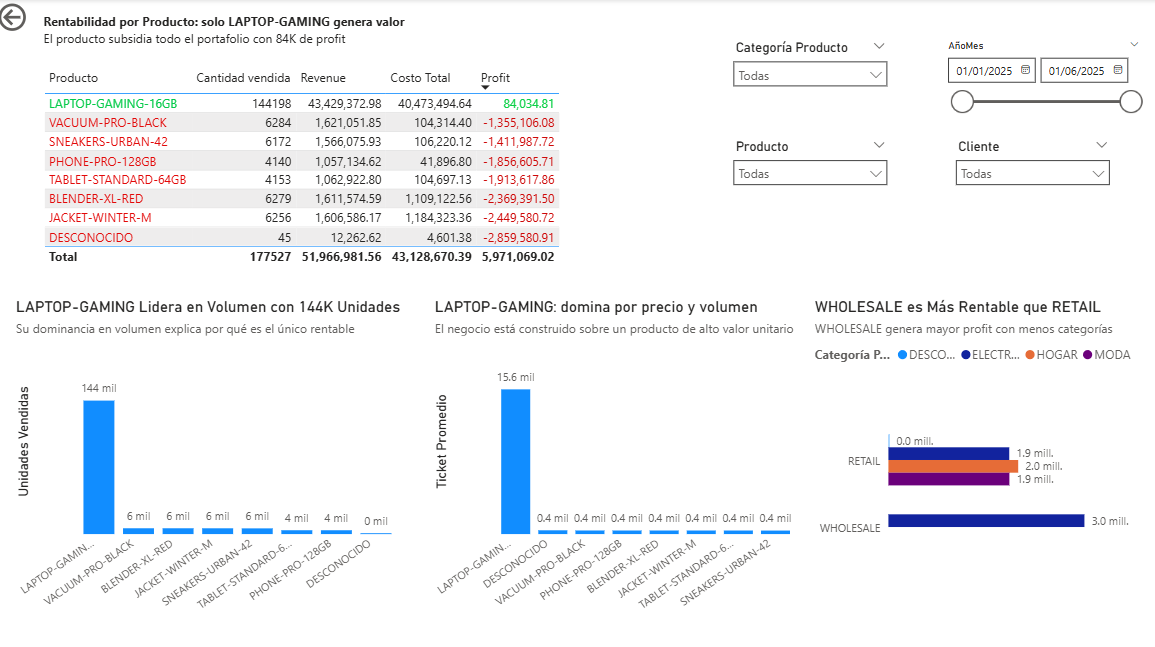

Layout of this report page (visuals, bound fields, positions):
{"tool":"powerbi","page":{"name":"Detalle","canvas":[1280,720],"ordinal":1},"visuals":[{"type":"tableEx","fields":{"Values":["orders_work.nombre_producto","Sum(orders_work.cantidad)","Sum(orders_work.monto_total)","Sum(orders_work.Costo Total)","orders_work.Profit Total"]},"box":[49.4,70,693,241.5],"z":0},{"type":"columnChart","title":"LAPTOP-GAMING Lidera en Volumen con 144K Unidades","fields":{"Y":["Sum(orders_work.cantidad)"],"Category":["orders_work.nombre_producto"]},"box":[19.2,328,440.5,354],"z":1},{"type":"actionButton","box":[0,0,100,40],"z":2},{"type":"slicer","fields":{"Values":["dim_fecha.AñoMes"]},"box":[1034.7,39.8,234.6,93.3],"z":3},{"type":"slicer","fields":{"Values":["catalog_work.categoria_producto"]},"box":[801.4,39.8,189.4,74.1],"z":4},{"type":"slicer","fields":{"Values":["orders_work.nombre_producto"]},"box":[801.4,148.2,189.4,68.6],"z":5},{"type":"slicer","fields":{"Values":["orders_work.customer_type"]},"box":[1045.6,148.2,189.4,68.6],"z":6},{"type":"clusteredBarChart","title":"WHOLESALE es Más Rentable que RETAIL","fields":{"Category":["orders_work.customer_type"],"Y":["Sum(orders_work.Profit)"],"Series":["orders_work.categoria_producto"]},"box":[896.1,328,373.2,354],"z":7},{"type":"clusteredColumnChart","title":"LAPTOP-GAMING: domina por precio y volumen","fields":{"Category":["orders_work.nombre_producto"],"Y":["orders_work.Ticket Promedio"]},"box":[478.9,328,417.2,354],"z":8},{"type":"textbox","box":[49.4,11,424,59],"z":9}]}

Visuals, with their boxes in screenshot pixels (x1, y1, x2, y2), scaled from the page's 1280x720 canvas onto the 1155x647 screenshot:
tableEx - orders_work.nombre_producto x Sum(orders_work.cantidad): (45, 63, 670, 280)
"LAPTOP-GAMING Lidera en Volumen con 144K Unidades" columnChart: (17, 295, 415, 613)
actionButton: (0, 0, 90, 36)
slicer - dim_fecha.AñoMes: (934, 36, 1145, 120)
slicer - catalog_work.categoria_producto: (723, 36, 894, 102)
slicer - orders_work.nombre_producto: (723, 133, 894, 195)
slicer - orders_work.customer_type: (943, 133, 1114, 195)
"WHOLESALE es Más Rentable que RETAIL" clusteredBarChart: (809, 295, 1145, 613)
"LAPTOP-GAMING: domina por precio y volumen" clusteredColumnChart: (432, 295, 809, 613)
textbox: (45, 10, 427, 63)
